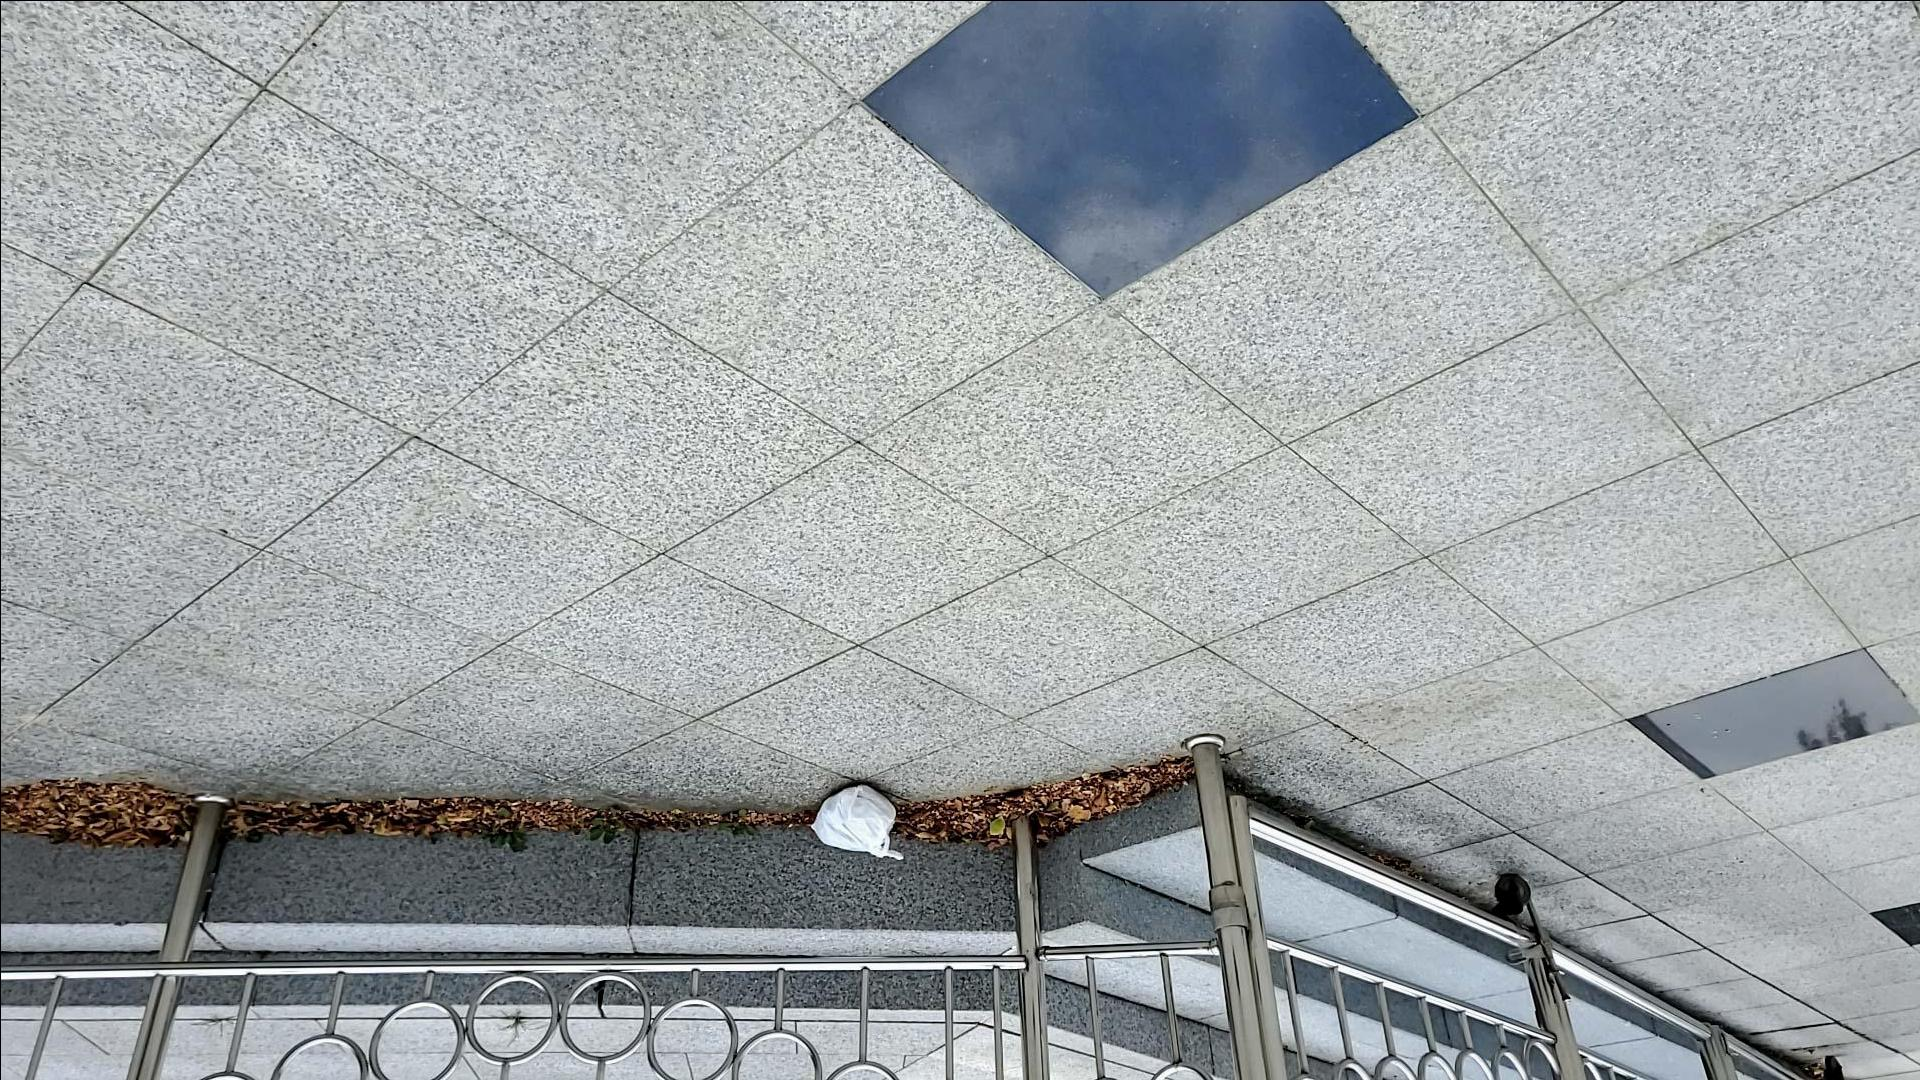white_bag: (802, 773, 915, 872)
